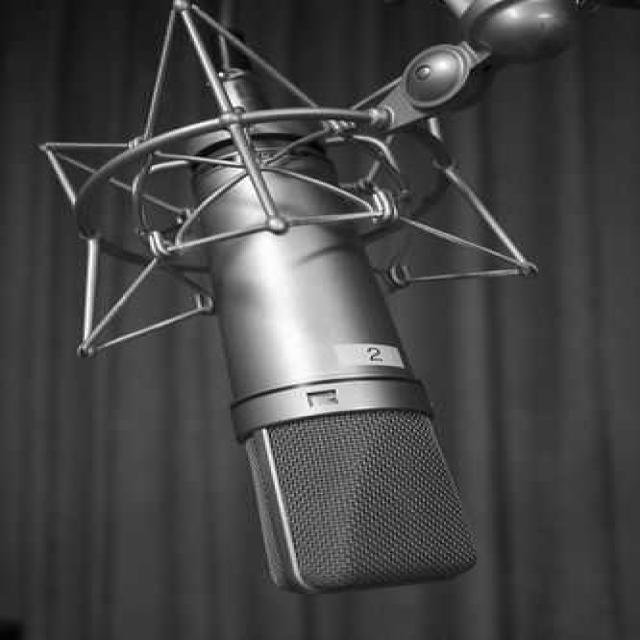microphone: (148, 44, 481, 584)
